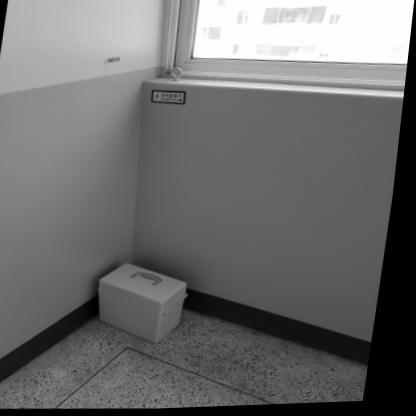---: (96, 262, 197, 347)
